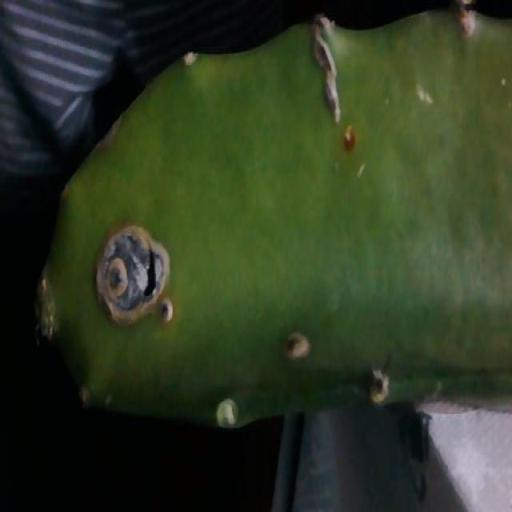stemcanker: (281, 324, 317, 369), (341, 119, 360, 158), (156, 294, 174, 330), (494, 68, 512, 97)
